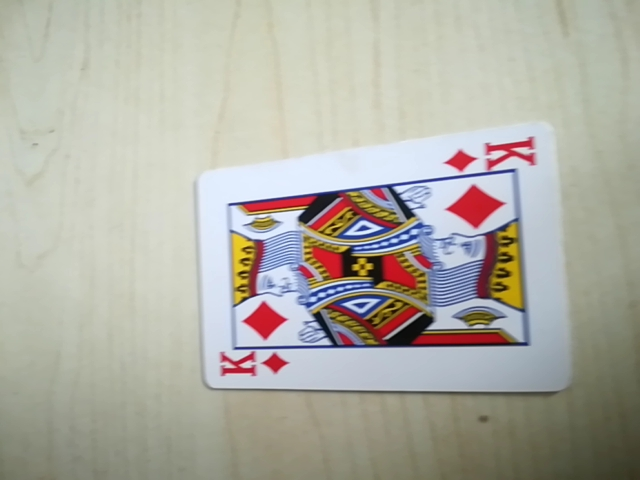fk k: (446, 132, 545, 177), (213, 347, 289, 385)
